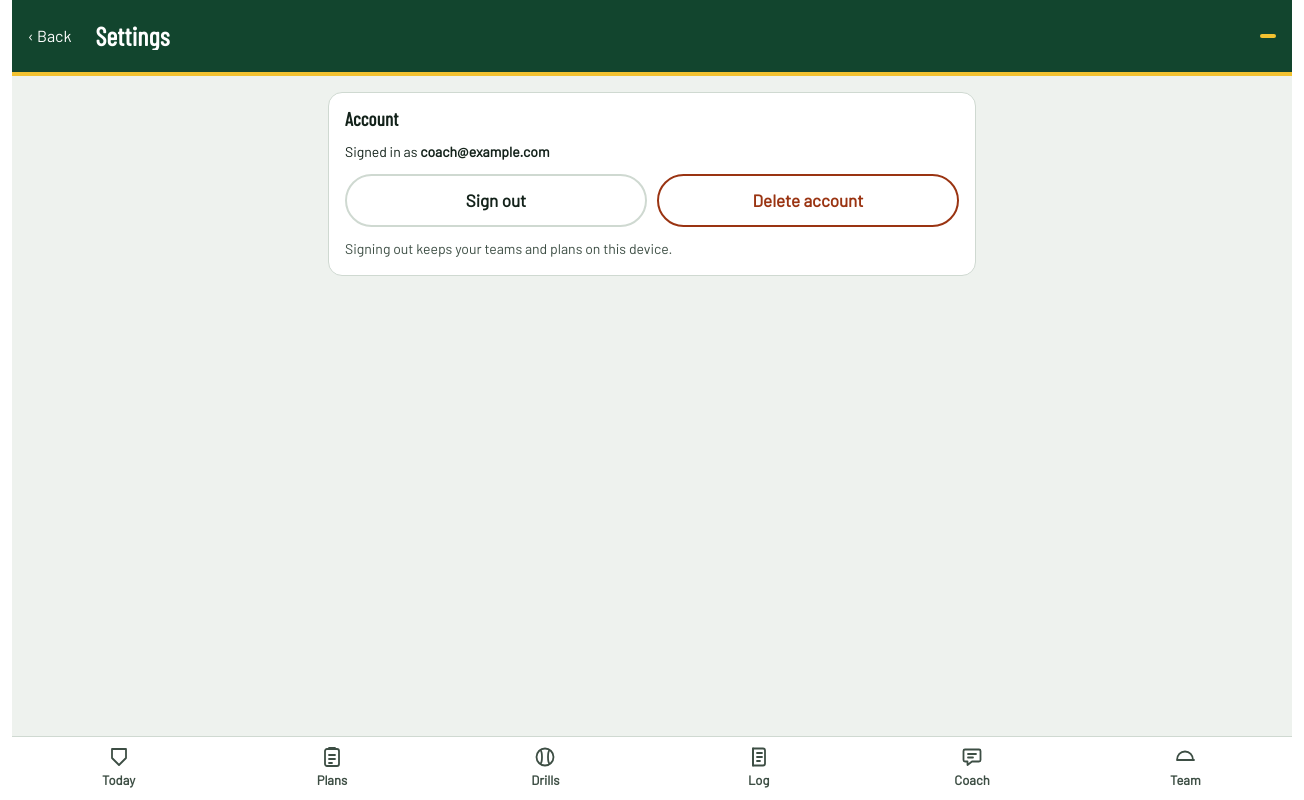
Test case: settings page: account, share and donate › asks for a connection before deleting the account
Click the button "Delete account".
click(808, 200)  # box [657,174,959,227]
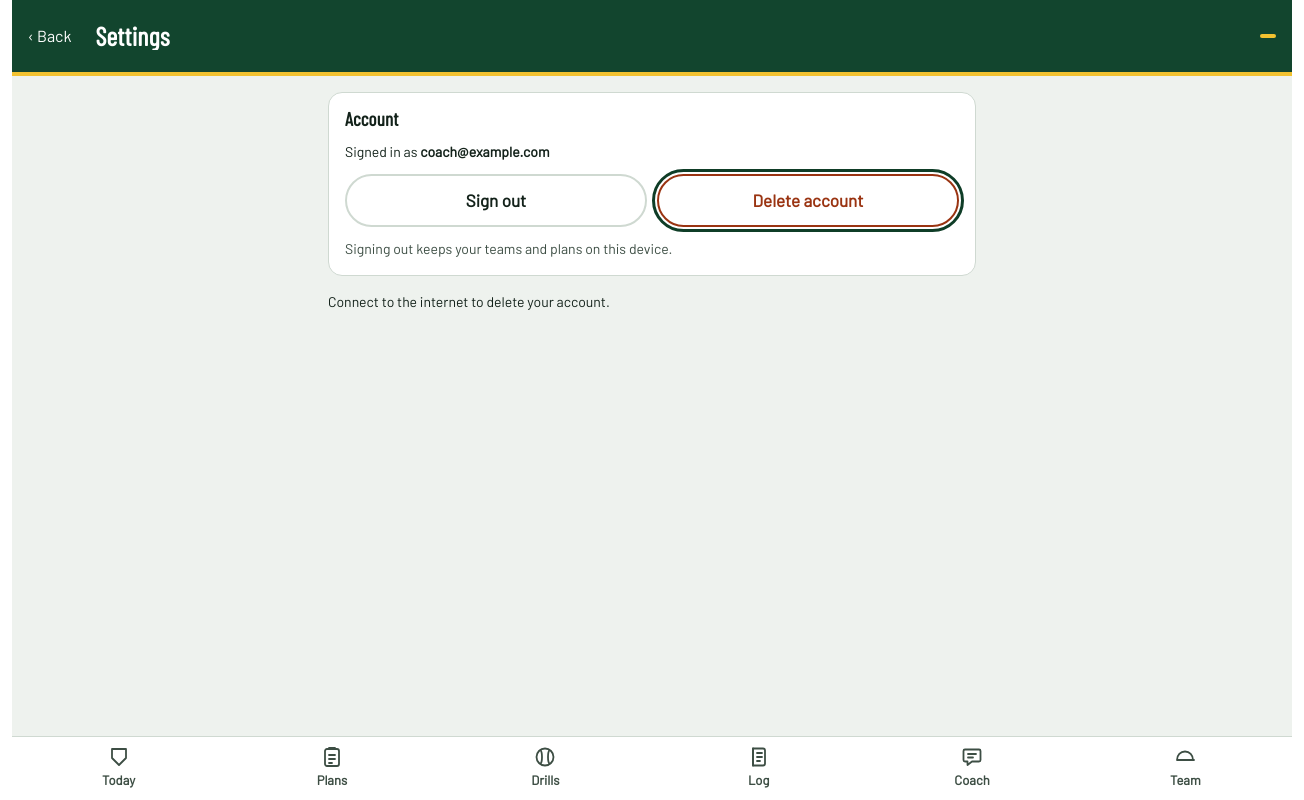
Result: the message shows "Connect to the internet" at [328,293,610,310]
